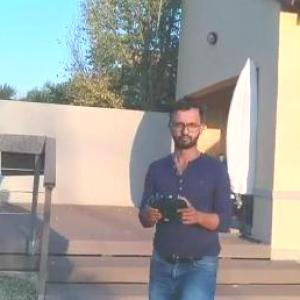follow: (131, 92, 236, 299)
